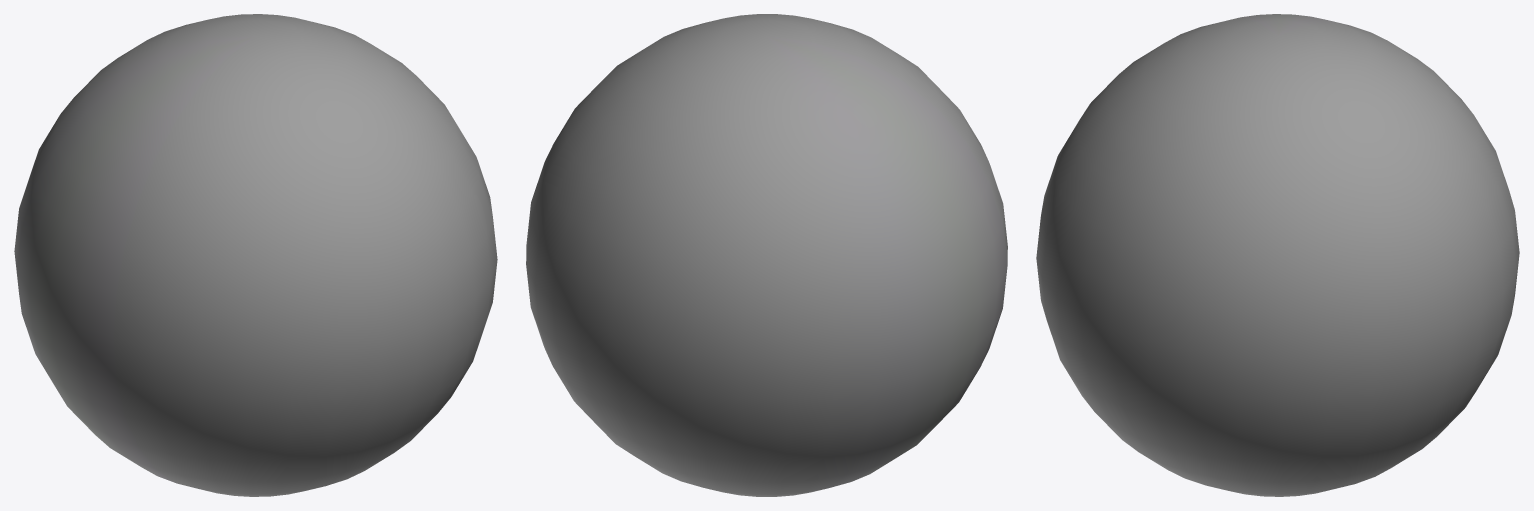
Rendered from M6_Dynamic1Stone_100kg.fbx.
The picture shows the model from 3 angles, left to right: view 1: azimuth 30°, elevation 25°; view 2: azimuth 150°, elevation 25°; view 3: azimuth 270°, elevation 25°; orthographic projection.
Parts seen in each view (by area): view 1: D1Sphere1; view 2: D1Sphere1; view 3: D1Sphere1.
Boxes of the visible parts, x1,y1,x2,y2 form: D1Sphere1: (14,14,497,496); D1Sphere1: (526,14,1007,496); D1Sphere1: (1036,14,1519,496).
Size of what is drawn, in the model's own units: 24.99 by 25 by 24.99.
